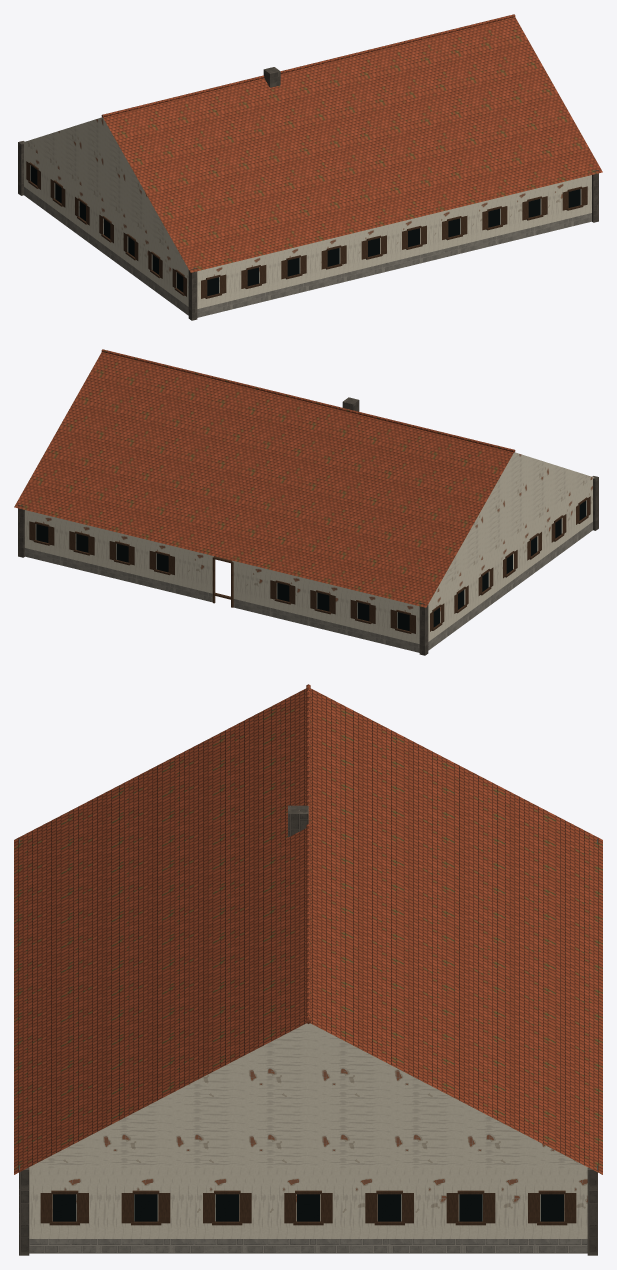
Rendered from SM_Art_ArmadaTenderWreckCove.gltf.
3 renders of one model, top to bottom at view 1: azimuth 30°, elevation 25°; view 2: azimuth 150°, elevation 25°; view 3: azimuth 270°, elevation 25°, orthographic. The views are drawn at different scales.
Visible parts, largest first — view 1: SM_Art_ArmadaTenderWreckCove; view 2: SM_Art_ArmadaTenderWreckCove; view 3: SM_Art_ArmadaTenderWreckCove.
Boxes of the visible parts, <box> form: SM_Art_ArmadaTenderWreckCove: <box>18,14,602,320</box>; SM_Art_ArmadaTenderWreckCove: <box>14,349,598,655</box>; SM_Art_ArmadaTenderWreckCove: <box>14,684,602,1255</box>.
Bounding box in the file's own units: 27.2 × 9.4 × 20.2.
Materials: 7 (6 with a texture image).
